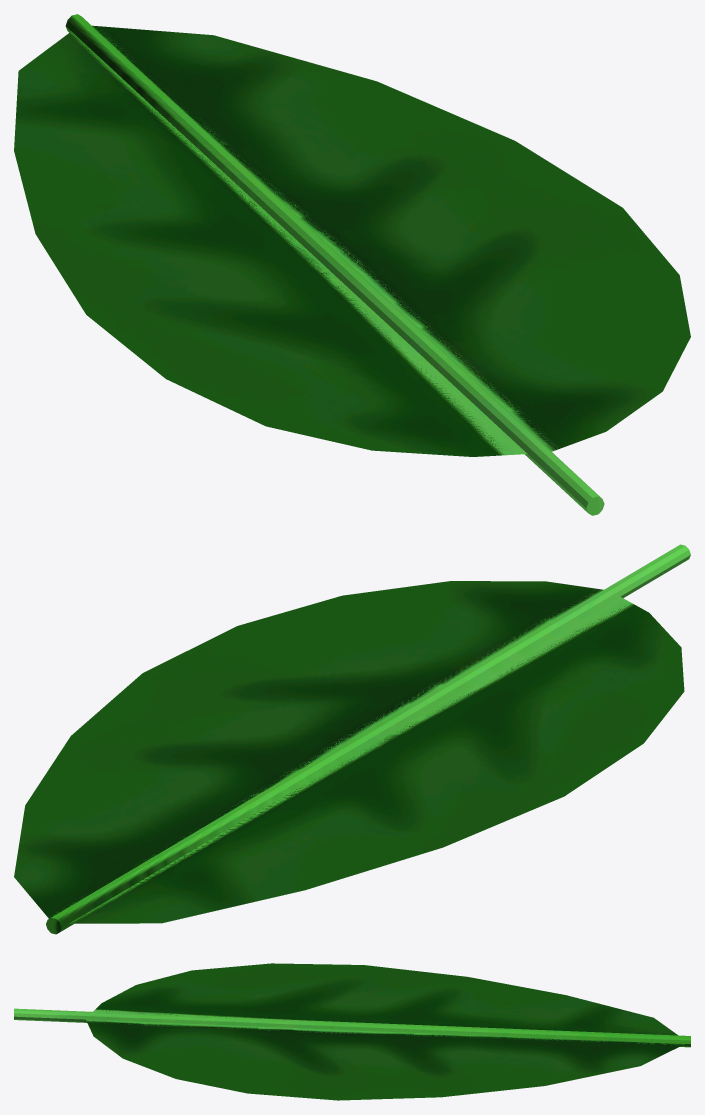
File: Leaf.glb
3 renders of one model, top to bottom at view 1: azimuth 30°, elevation 25°; view 2: azimuth 150°, elevation 25°; view 3: azimuth 270°, elevation 25°, orthographic. The views are drawn at different scales.
Parts seen in each view (by area): view 1: Leaf; view 2: Leaf; view 3: Leaf.
Part boxes in pixels (left/top/right/bottom): Leaf: left=14, top=14, right=690, bottom=515; Leaf: left=14, top=544, right=690, bottom=934; Leaf: left=14, top=963, right=690, bottom=1100.
Bounding box in the file's own units: 121 × 4.03 × 253.
Materials: 1 (1 with a texture image).
